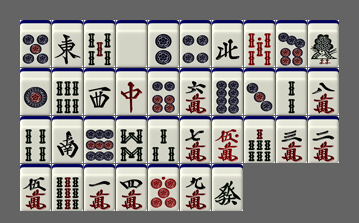0m: (212, 116, 243, 163)
0p: (148, 164, 179, 211)
0s: (244, 20, 275, 67)
1m: (84, 164, 115, 211)
1p: (20, 68, 51, 115)
1s: (308, 20, 339, 67)
1z: (52, 20, 83, 67)
2m: (308, 116, 339, 163)
2p: (148, 20, 179, 67)
2s: (276, 68, 307, 115)
2z: (52, 116, 83, 163)
3m: (276, 116, 307, 163)
3p: (244, 68, 275, 115)
3s: (148, 116, 179, 163)
3z: (84, 68, 115, 115)
4m: (116, 164, 147, 211)
4p: (180, 20, 211, 67)
4s: (20, 116, 51, 163)
4z: (212, 20, 243, 67)
5m: (20, 164, 51, 211)
5p: (20, 20, 51, 67)
5s: (84, 20, 115, 67)
5z: (116, 20, 147, 67)
6m: (180, 68, 211, 115)
6p: (148, 68, 179, 115)
6s: (52, 68, 83, 115)
6z: (212, 164, 243, 211)
7m: (180, 116, 211, 163)
7p: (276, 20, 307, 67)
7s: (244, 116, 275, 163)
7z: (116, 68, 147, 115)
8m: (308, 68, 339, 115)
8p: (212, 68, 243, 115)
8s: (116, 116, 147, 163)
9m: (180, 164, 211, 211)
9p: (84, 116, 115, 163)
9s: (52, 164, 83, 211)
